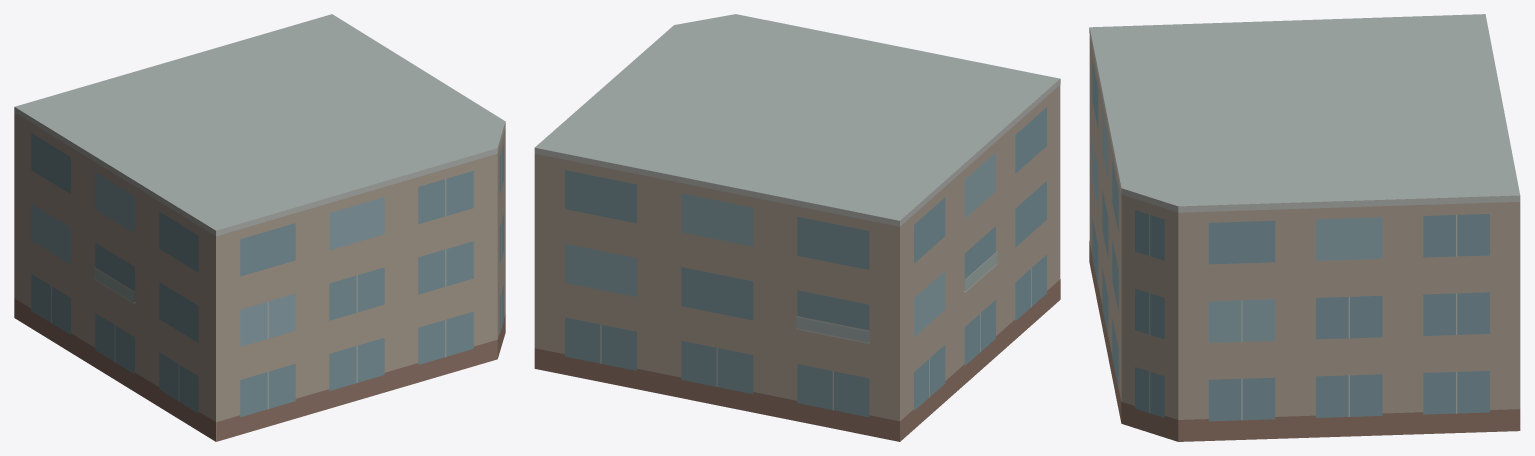
The model's file is survey-upis-32714593.glb.
The picture shows the model from 3 angles, left to right: view 1: azimuth 30°, elevation 25°; view 2: azimuth 150°, elevation 25°; view 3: azimuth 270°, elevation 25°; orthographic projection. The views are drawn at different scales.
Visible parts, largest first — view 1: survey-upis-32714593.tmp; view 2: survey-upis-32714593.tmp; view 3: survey-upis-32714593.tmp.
Part boxes in pixels (x1,y1,x2,y2): survey-upis-32714593.tmp: (14,14,505,441); survey-upis-32714593.tmp: (534,14,1060,441); survey-upis-32714593.tmp: (1089,14,1520,441).
Size of the model in its own units: 16.04 by 9.15 by 15.18.
